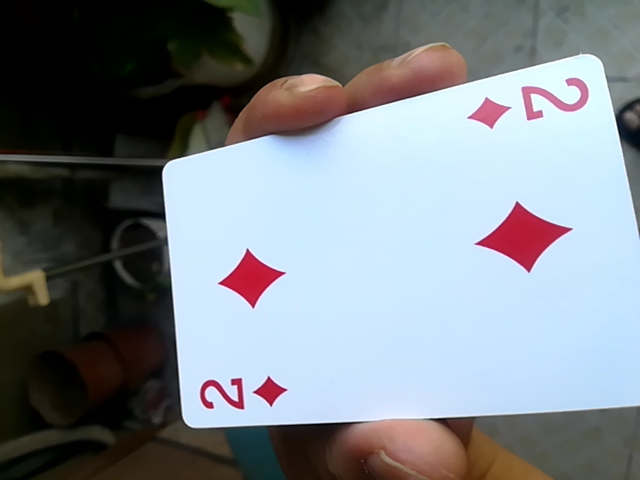fk 2: (143, 67, 635, 436)
